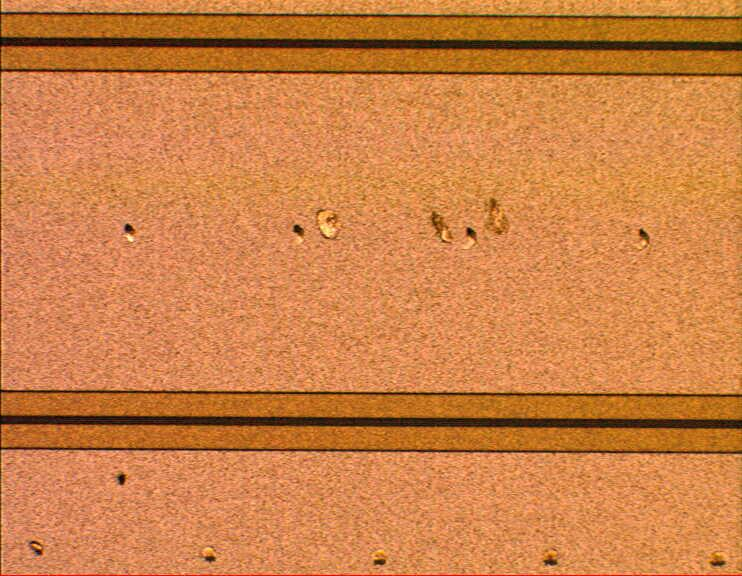SCRATCH: (312, 188, 523, 260)
